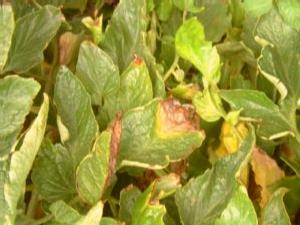Tomato mold leaf: (76, 87, 208, 202), (33, 66, 102, 206), (1, 3, 70, 75), (216, 83, 294, 141)
